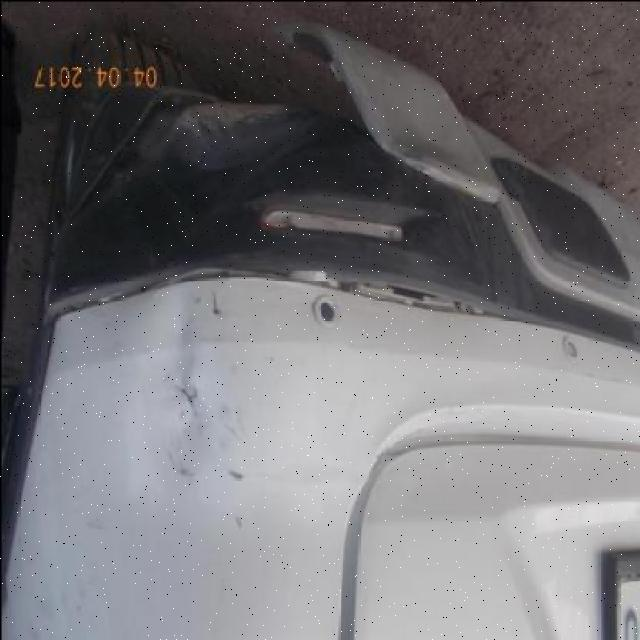damage: (42, 260, 528, 323), (155, 101, 322, 174), (156, 285, 197, 380), (155, 439, 197, 490), (169, 382, 203, 417), (216, 412, 245, 449), (219, 460, 247, 484), (227, 508, 242, 532)
